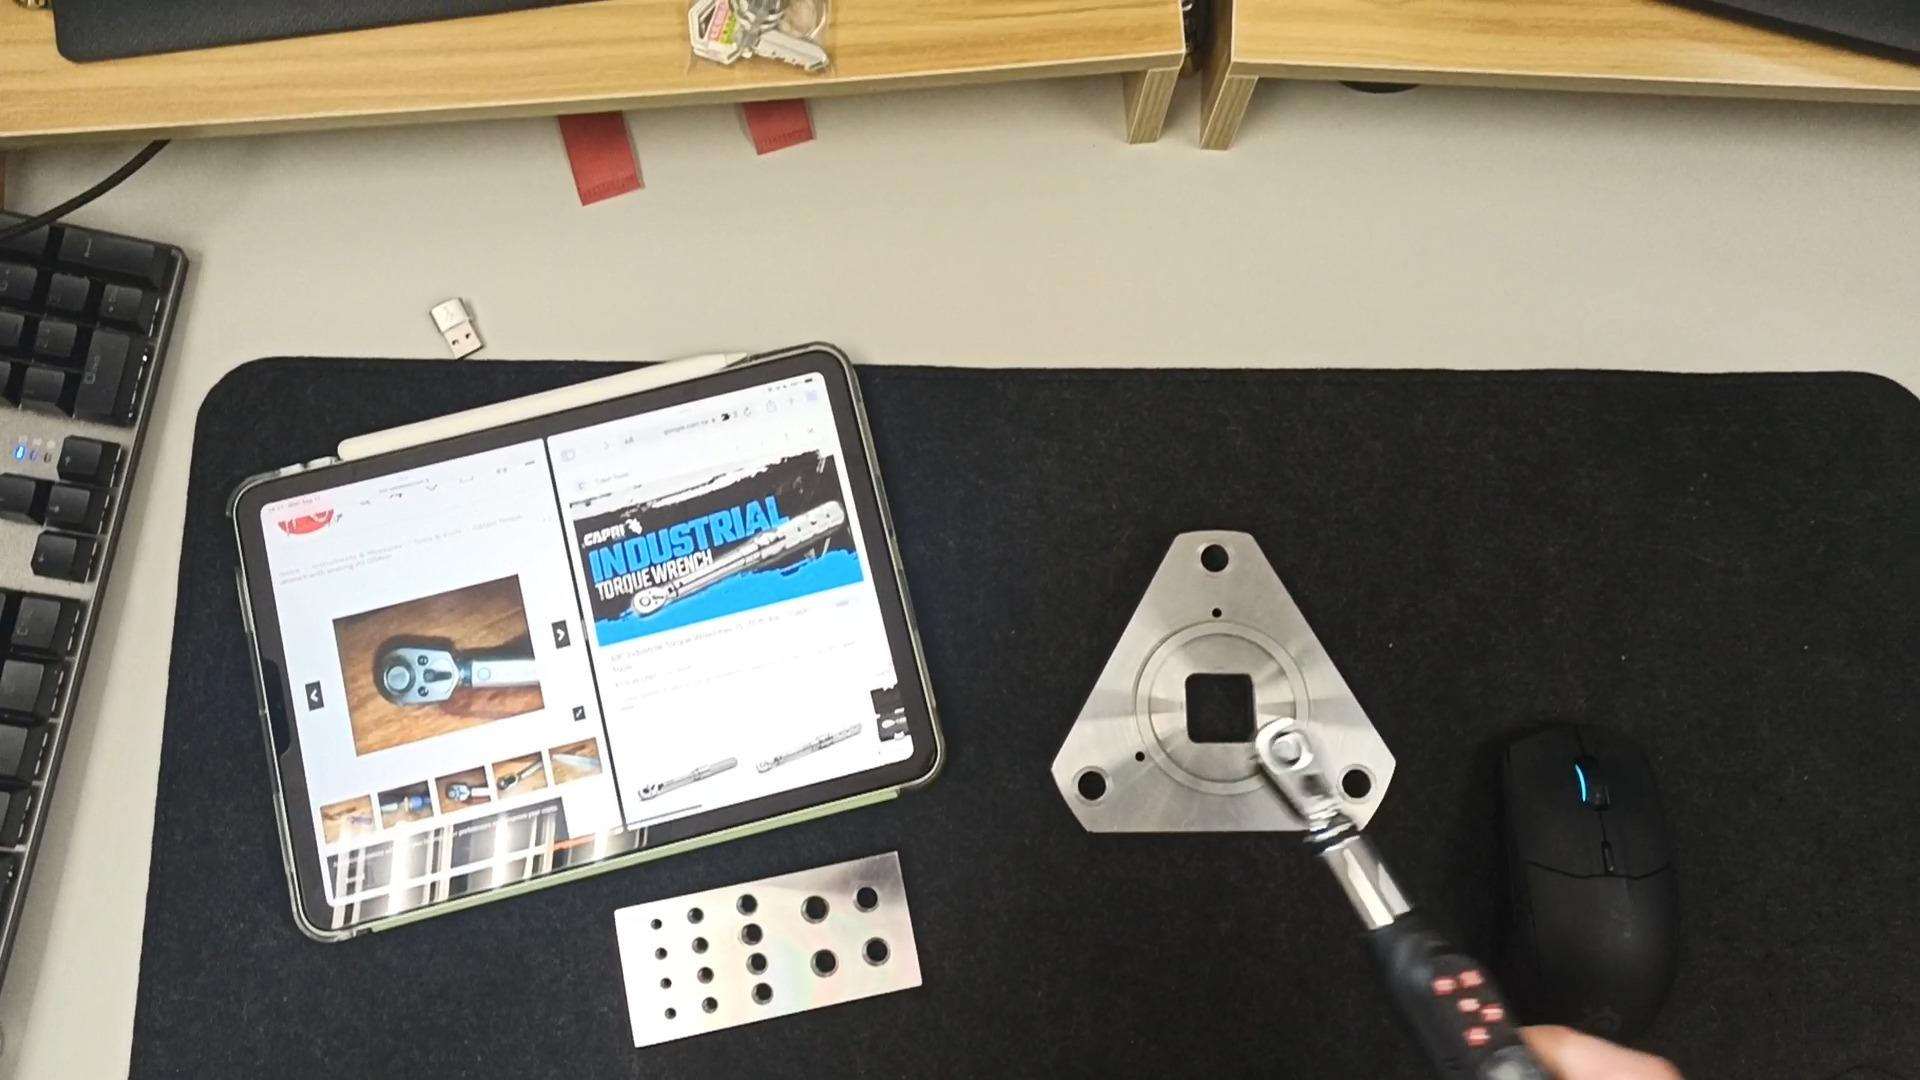Tool: (1257, 713, 1360, 833), (365, 624, 468, 720), (630, 585, 669, 617)
hole: (1179, 539, 1245, 583), (1060, 767, 1116, 808), (840, 939, 899, 976), (1336, 757, 1379, 806), (833, 889, 890, 923), (785, 895, 837, 928), (794, 949, 844, 982), (723, 923, 769, 951), (717, 897, 764, 923), (735, 982, 779, 1007), (729, 956, 771, 982), (674, 909, 711, 930), (679, 938, 716, 959), (690, 994, 724, 1014), (688, 968, 723, 986), (642, 918, 673, 936), (646, 945, 676, 963), (651, 976, 680, 992), (654, 1005, 683, 1021)
